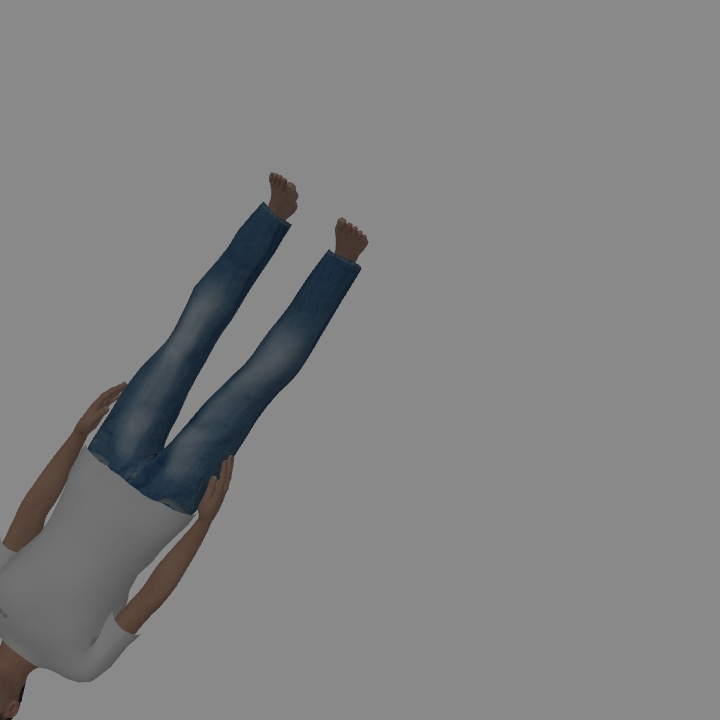victim: (2, 176, 366, 720)
